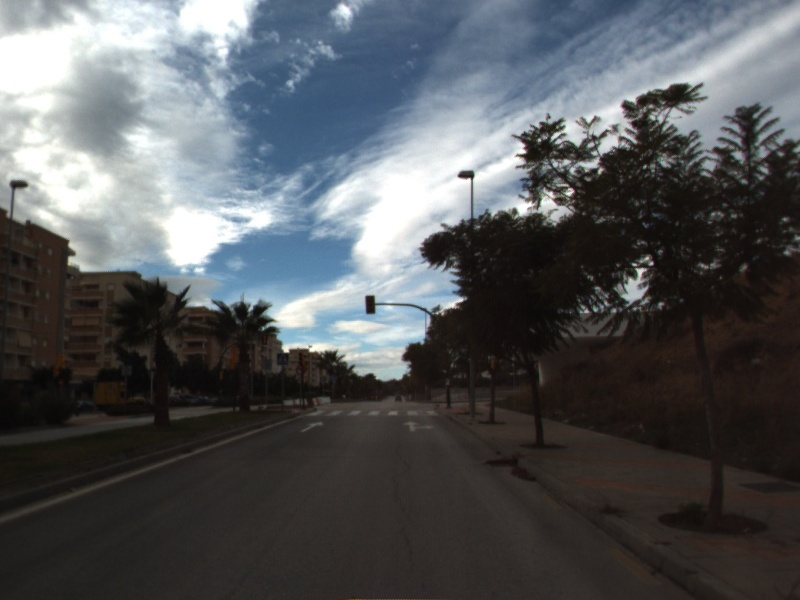STRAIGHT: (298, 419, 326, 434)
STRAIGHT_RIGHT: (401, 419, 436, 433)
